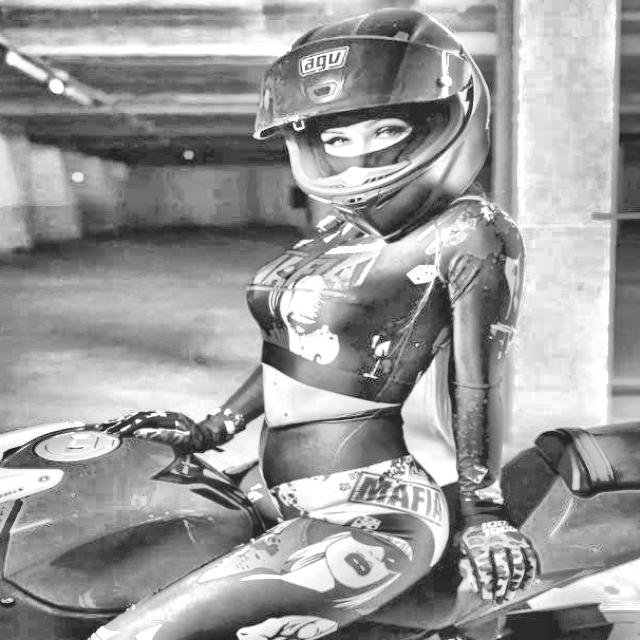Helmet: (242, 0, 504, 248)
